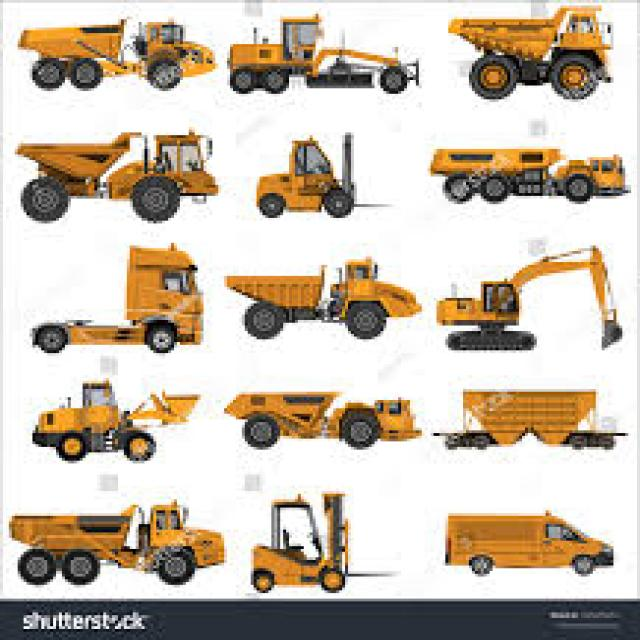dump_truck: (8, 127, 229, 234), (8, 497, 232, 591), (436, 5, 620, 113), (18, 10, 221, 104), (218, 255, 423, 347), (428, 137, 631, 222), (218, 380, 428, 459)
